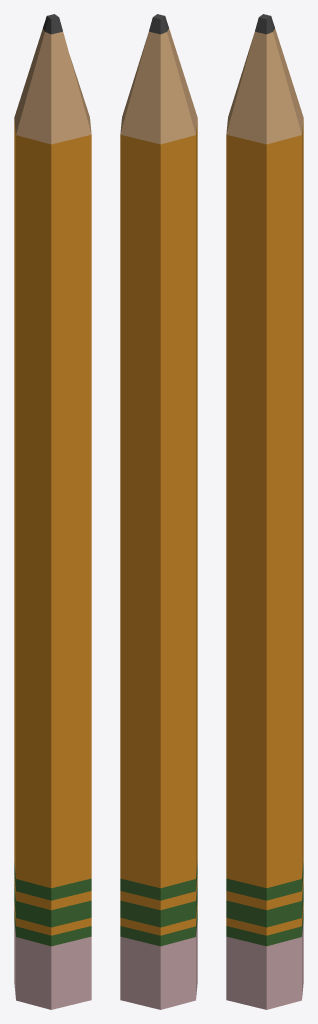
File: Pencil.fbx
3 views of the same model, side by side, from view 1: azimuth 30°, elevation 25°; view 2: azimuth 150°, elevation 25°; view 3: azimuth 330°, elevation 25° (orthographic).
Visible parts, largest first — view 1: Cube; view 2: Cube; view 3: Cube.
Boxes of the visible parts, x1,y1,x2,y2 form: Cube: [14, 14, 91, 1009]; Cube: [120, 14, 197, 1009]; Cube: [226, 14, 303, 1009].
Size of the model in its own units: 9.07 by 114 by 7.85.
